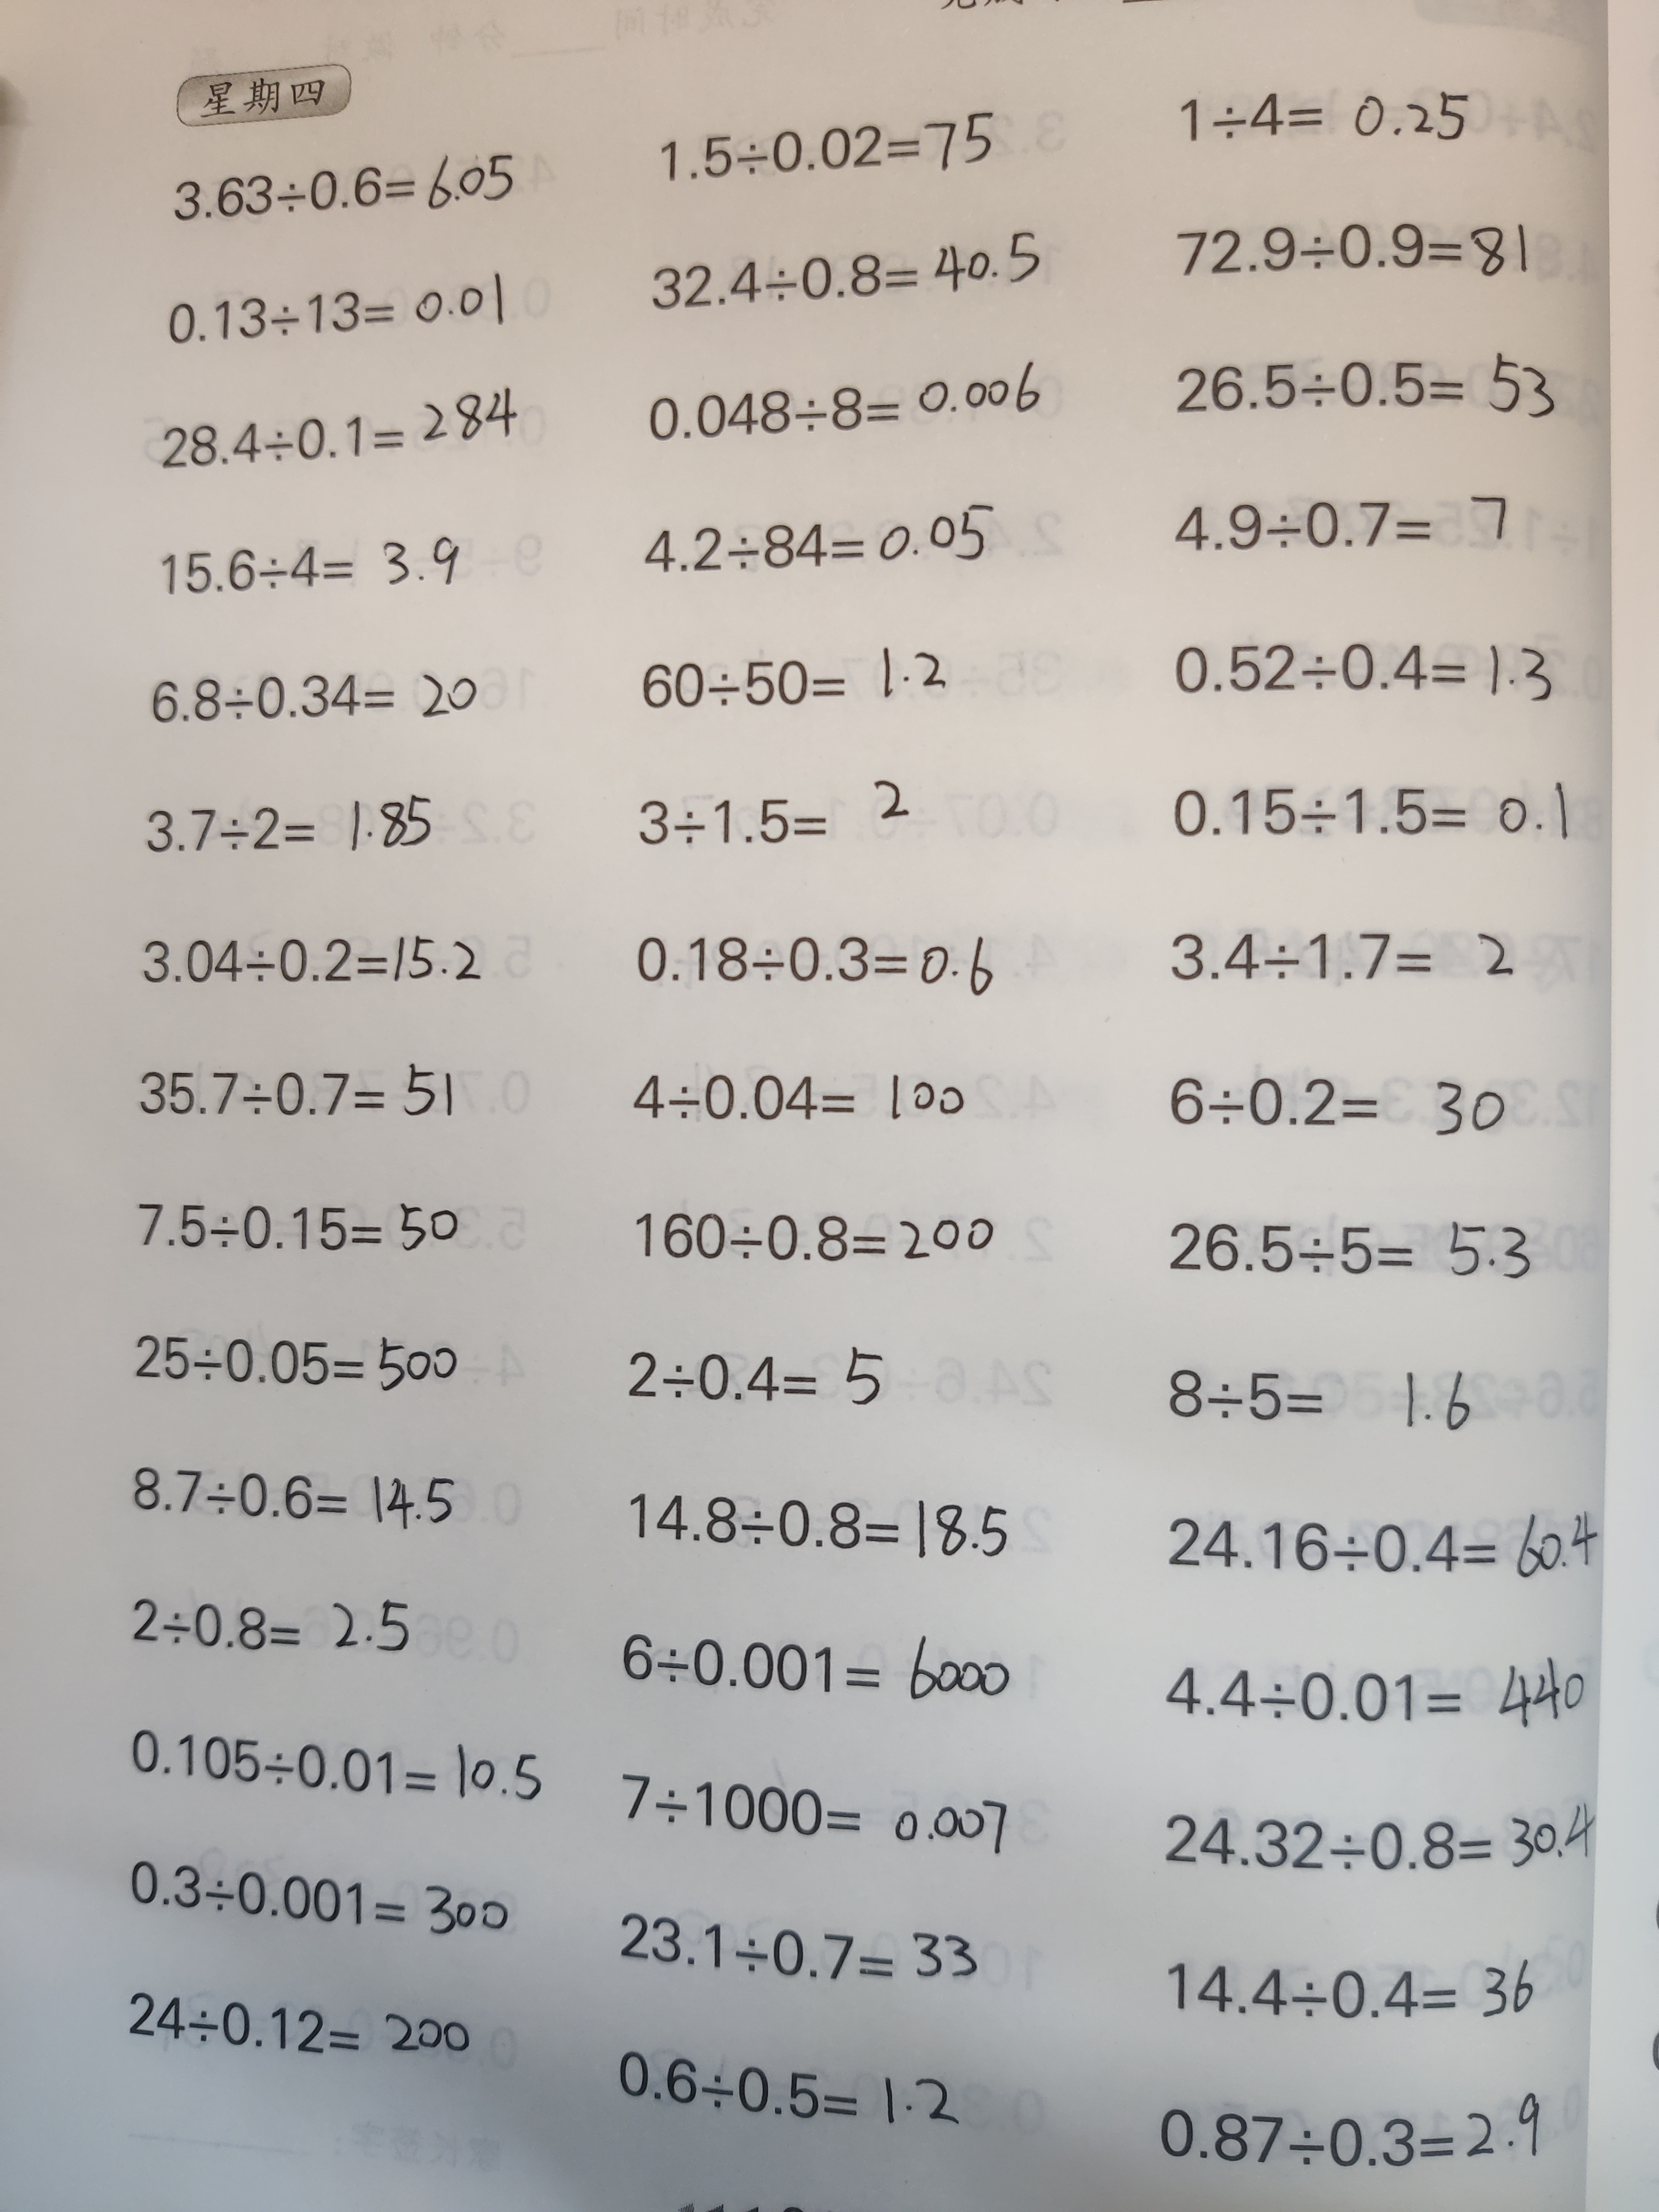equation: (1152, 1789, 1600, 1904), (603, 1763, 1019, 1881), (106, 1707, 556, 1813), (606, 1606, 1025, 1719), (615, 1468, 1023, 1581), (615, 1170, 1009, 1287), (1161, 766, 1591, 873), (605, 2022, 978, 2144), (1152, 1045, 1523, 1163), (1161, 1935, 1544, 2048), (624, 503, 1012, 615), (1155, 1503, 1605, 1599), (1145, 2081, 1549, 2186), (615, 352, 1054, 448), (612, 1900, 997, 2008), (1152, 1644, 1598, 1737), (633, 221, 1061, 317), (1155, 469, 1535, 577), (1157, 1197, 1549, 1301), (125, 1841, 518, 1946), (1162, 340, 1579, 437), (1141, 1348, 1509, 1454), (132, 380, 525, 479), (1136, 625, 1568, 714), (120, 904, 498, 1005), (1155, 207, 1551, 303), (617, 1045, 983, 1144), (150, 132, 535, 226), (112, 1972, 481, 2069), (110, 1442, 465, 1543), (106, 1038, 467, 1136), (631, 763, 929, 878), (141, 272, 525, 361), (125, 1177, 472, 1275), (101, 1568, 427, 1670), (631, 923, 1006, 1012), (1161, 914, 1523, 1003), (120, 1317, 467, 1409), (652, 99, 1009, 188), (118, 770, 448, 866), (587, 1329, 896, 1428), (148, 524, 479, 615), (617, 634, 967, 719), (145, 657, 484, 738), (1169, 71, 1490, 157)
